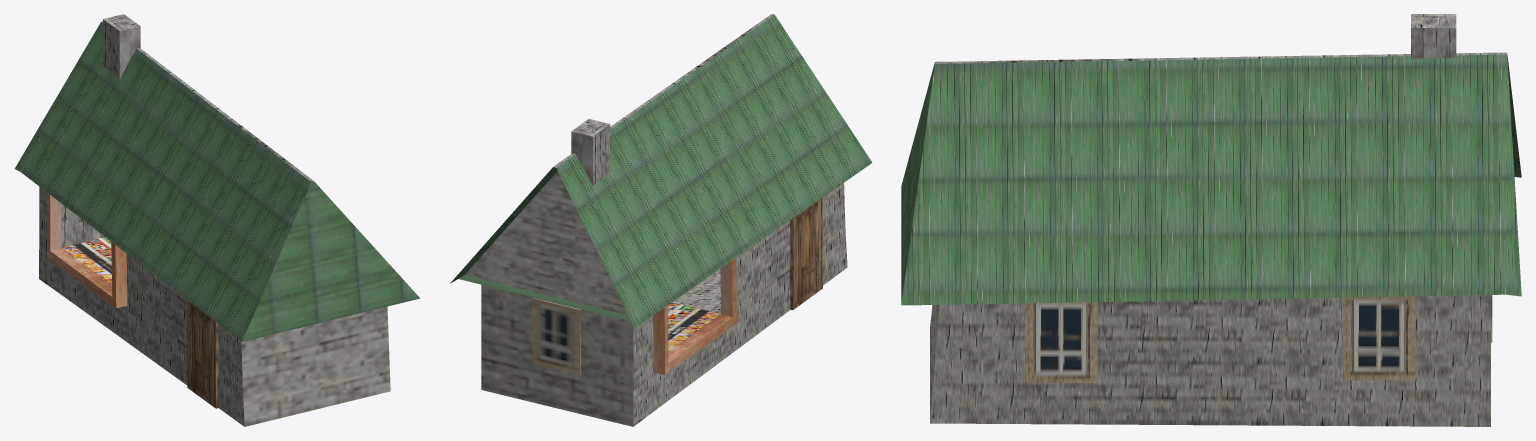
The model's file is house.fbx.
3 views of the same model, side by side, from view 1: azimuth 30°, elevation 25°; view 2: azimuth 150°, elevation 25°; view 3: azimuth 270°, elevation 25° (orthographic). The views are drawn at different scales.
Parts seen in each view (by area): view 1: house.001; view 2: house.001; view 3: house.001.
Boxes of the visible parts, x1,y1,x2,y2 form: house.001: [14, 14, 420, 426]; house.001: [450, 14, 872, 426]; house.001: [901, 14, 1521, 426].
Size of the model in its own units: 285 by 392 by 630.
Materials: 1 (1 with a texture image).
